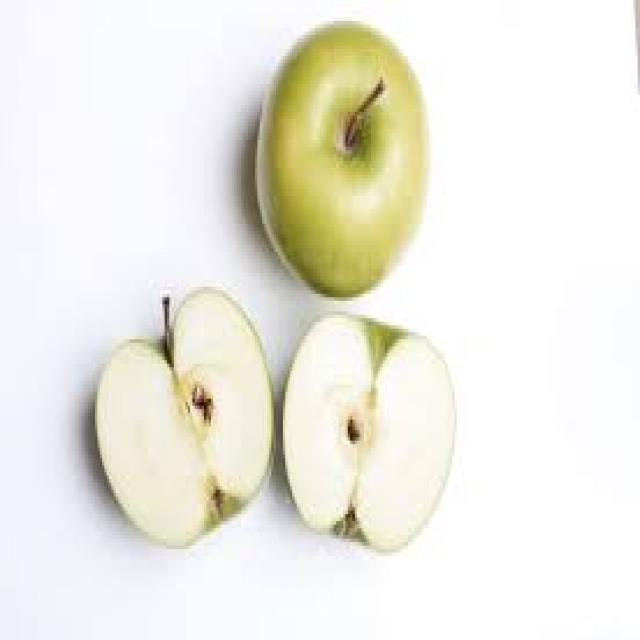Apple: (256, 22, 428, 296), (99, 289, 277, 546), (284, 306, 456, 547)
